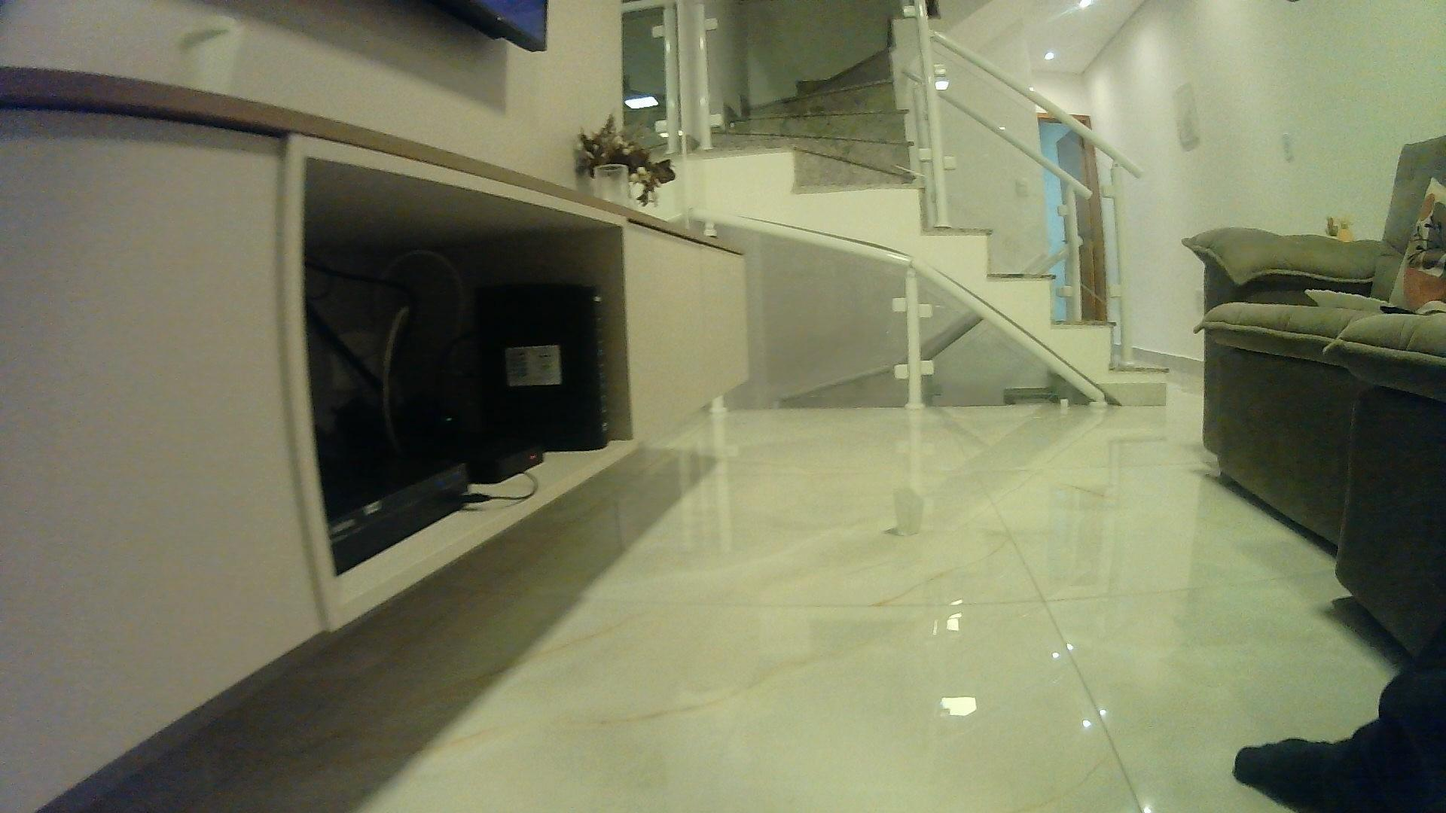erva_daninha: (887, 480, 934, 542)
